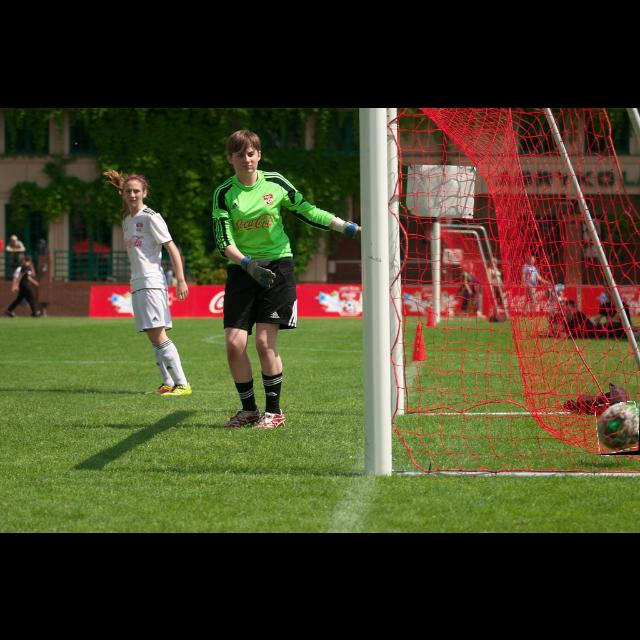Football: (596, 403, 640, 455)
